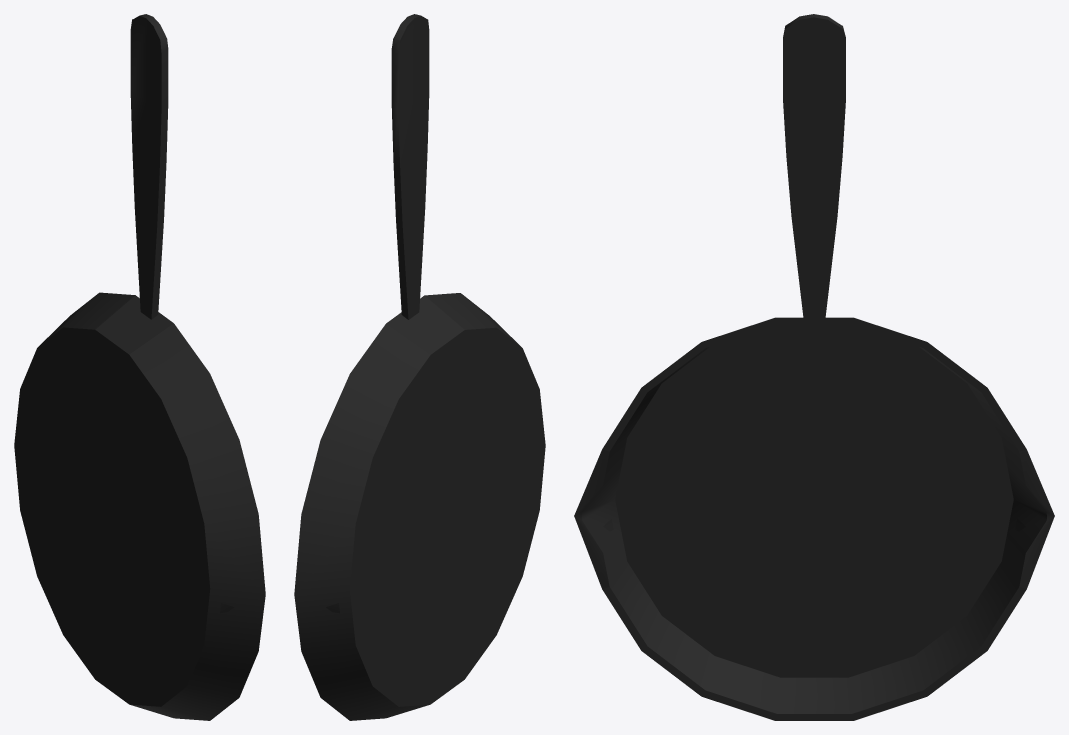
Rendered from KitchenSkillet.fbx.
3 views of the same model, side by side, from view 1: azimuth 30°, elevation 25°; view 2: azimuth 150°, elevation 25°; view 3: azimuth 270°, elevation 25° (orthographic). The views are drawn at different scales.
Parts seen in each view (by area): view 1: pan3; view 2: pan3; view 3: pan3.
Boxes of the visible parts, left/top/right/bottom form: pan3: left=14, top=14, right=265, bottom=720; pan3: left=294, top=14, right=545, bottom=720; pan3: left=574, top=14, right=1054, bottom=720.
Size of the model in its own units: 4.07 by 62.91 by 39.01.
